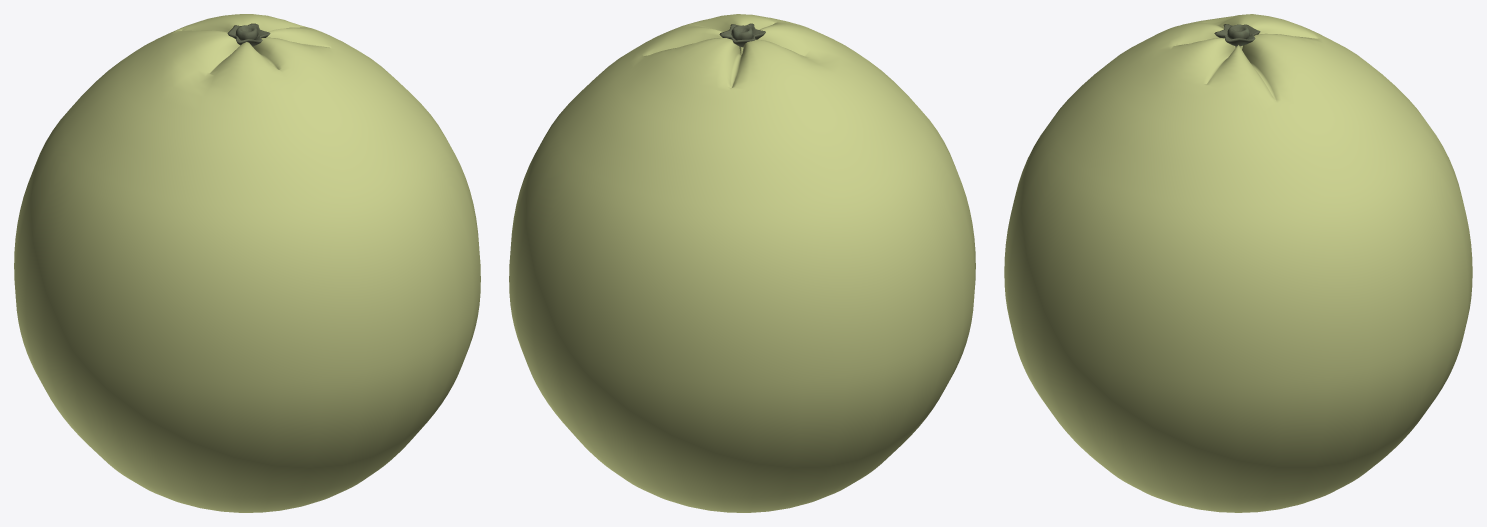
The model's file is SM_GreenOrange.fbx.
3 renders of one model, left to right at view 1: azimuth 30°, elevation 25°; view 2: azimuth 150°, elevation 25°; view 3: azimuth 270°, elevation 25°, orthographic.
Visible parts, largest first — view 1: OrangePeel, OrangeFruitPeduncle; view 2: OrangePeel, OrangeFruitPeduncle; view 3: OrangePeel, OrangeFruitPeduncle.
Part boxes in pixels (<box>): OrangePeel: <box>14,14,480,512</box>; OrangeFruitPeduncle: <box>227,23,270,46</box>; OrangePeel: <box>509,14,975,512</box>; OrangeFruitPeduncle: <box>719,23,765,47</box>; OrangePeel: <box>1004,14,1472,512</box>; OrangeFruitPeduncle: <box>1214,24,1260,46</box>.
Size of what is drawn, in the model's own units: 5.76 by 5.76 by 6.26.
